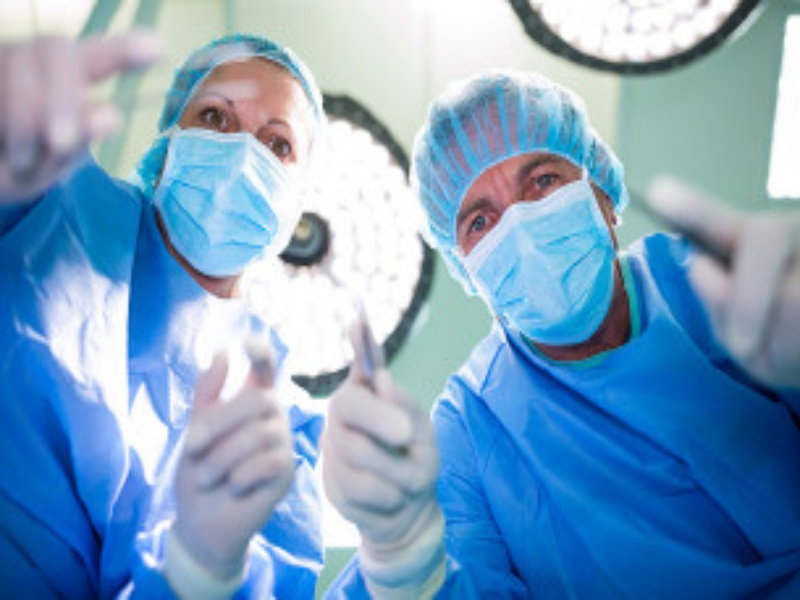mask: (409, 69, 631, 344), (164, 37, 325, 285)
